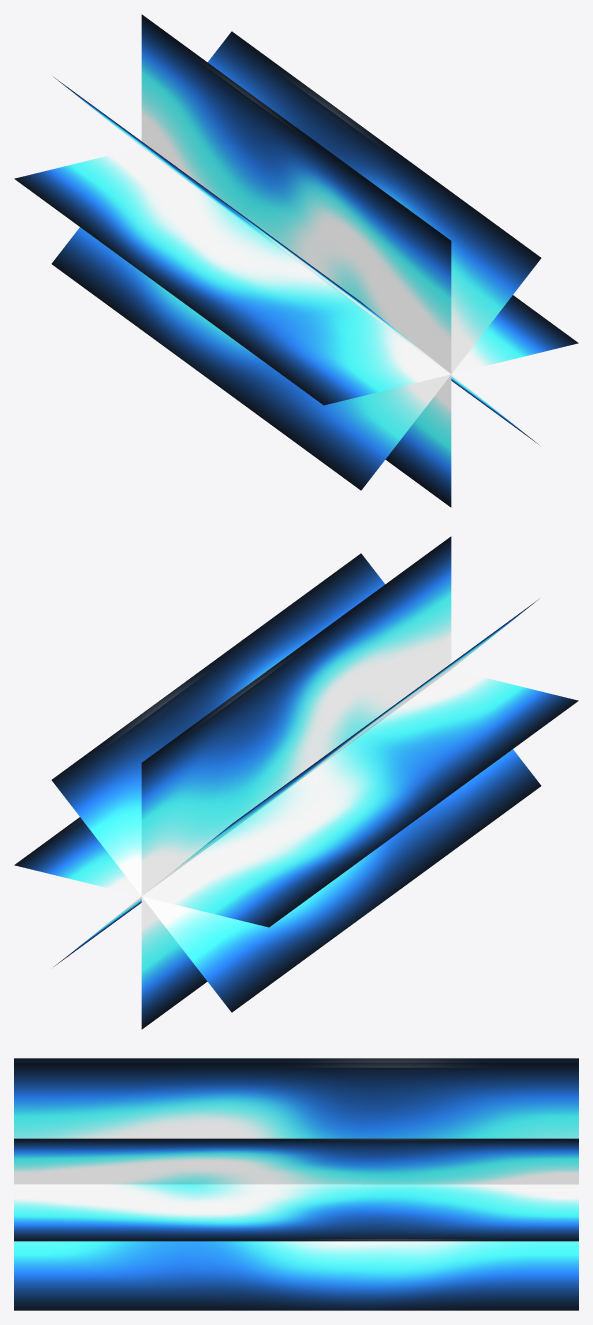
The model's file is audio_visual1.gltf.
3 views of the same model, one above another, from view 1: azimuth 30°, elevation 25°; view 2: azimuth 150°, elevation 25°; view 3: azimuth 270°, elevation 25° (orthographic). The views are drawn at different scales.
Visible parts, largest first — view 1: audio_visual; view 2: audio_visual; view 3: audio_visual.
Part boxes in pixels (bbox=[...]): audio_visual: bbox=[14, 14, 578, 507]; audio_visual: bbox=[14, 536, 578, 1029]; audio_visual: bbox=[14, 1058, 578, 1310].
Bounding box in the file's own units: 0.3269 × 0.3269 × 0.6875.
Materials: 1 (1 with a texture image).
